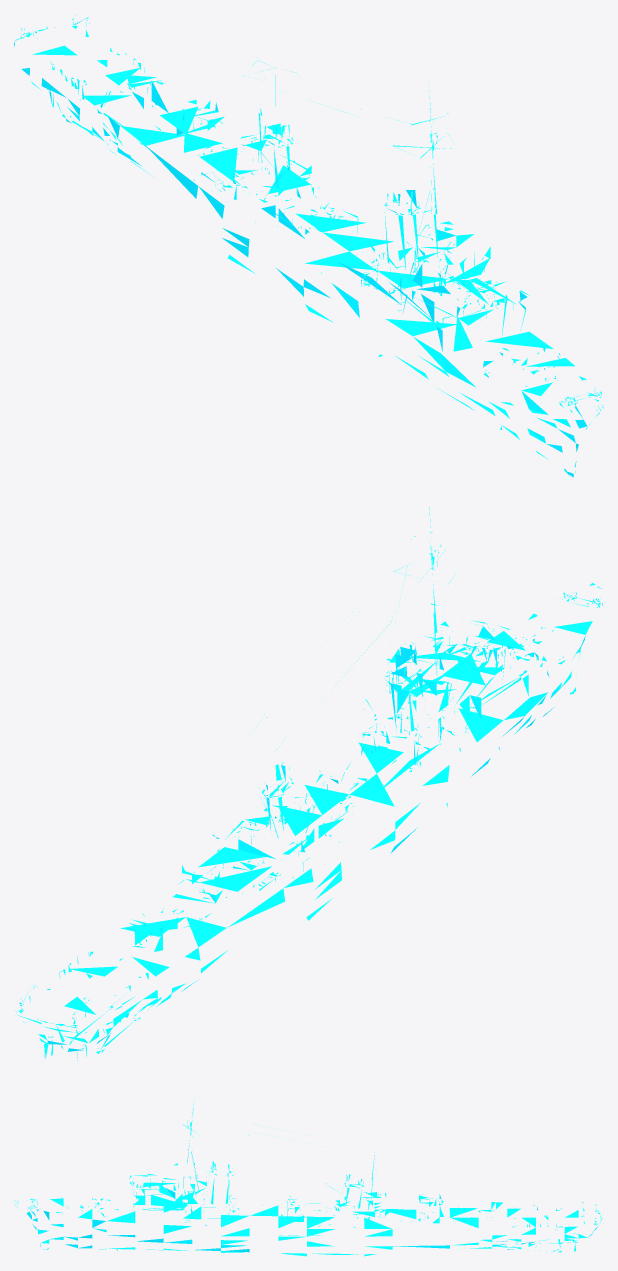
3 views of the same model, one above another, from view 1: azimuth 30°, elevation 25°; view 2: azimuth 150°, elevation 25°; view 3: azimuth 270°, elevation 25° (orthographic). The views are drawn at different scales.
Bounding box in the file's own units: 0.6655 × 1.99 × 6.86.
